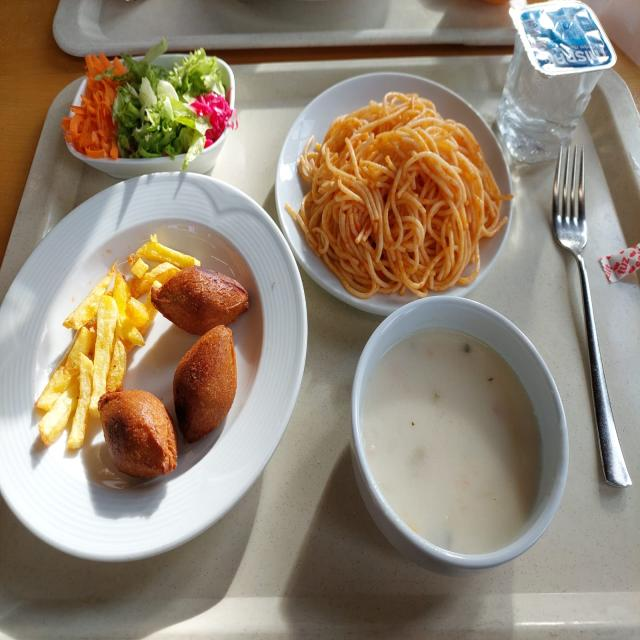ana_yemek: (1, 174, 304, 561), (276, 71, 486, 318)
corba: (349, 293, 568, 571)
yan_yemek: (64, 54, 238, 178)
